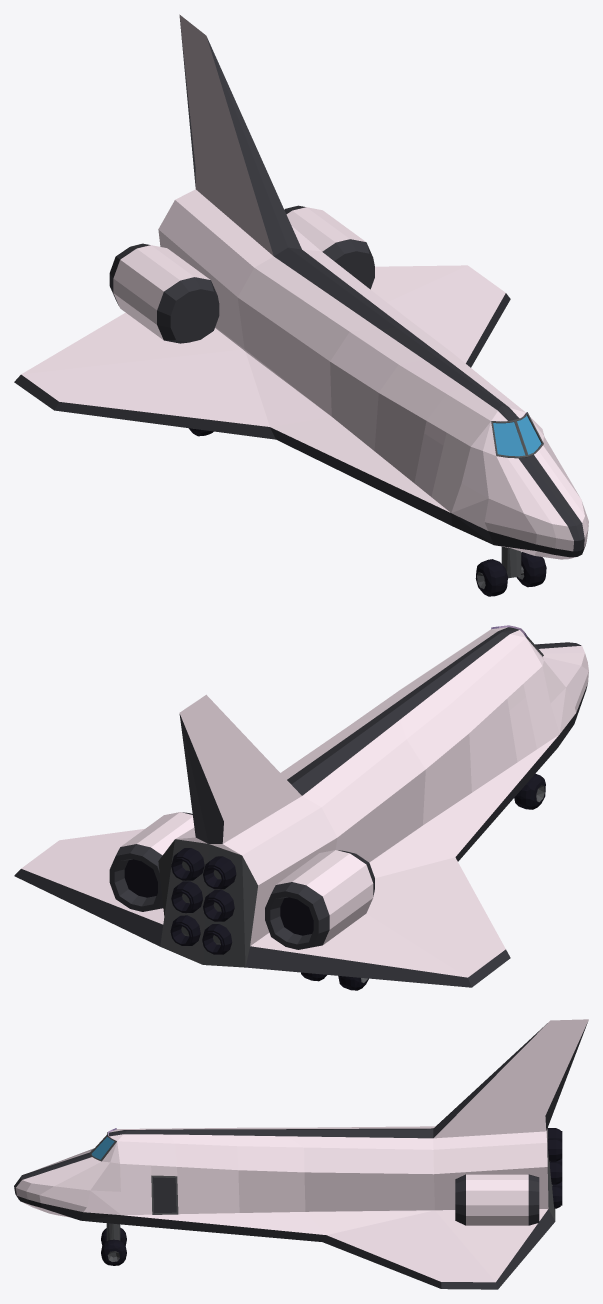
File: SpaceShip-3.fbx
The picture shows the model from 3 angles, top to bottom: view 1: azimuth 30°, elevation 25°; view 2: azimuth 150°, elevation 25°; view 3: azimuth 270°, elevation 25°; orthographic projection. The views are drawn at different scales.
Visible parts, largest first — view 1: Spaceship; view 2: Spaceship; view 3: Spaceship.
Boxes of the visible parts, bbox=[...] form: Spaceship: bbox=[14, 14, 588, 596]; Spaceship: bbox=[14, 625, 588, 990]; Spaceship: bbox=[14, 1019, 588, 1289].
Bounding box in the file's own units: 1074 × 746 × 1631.
